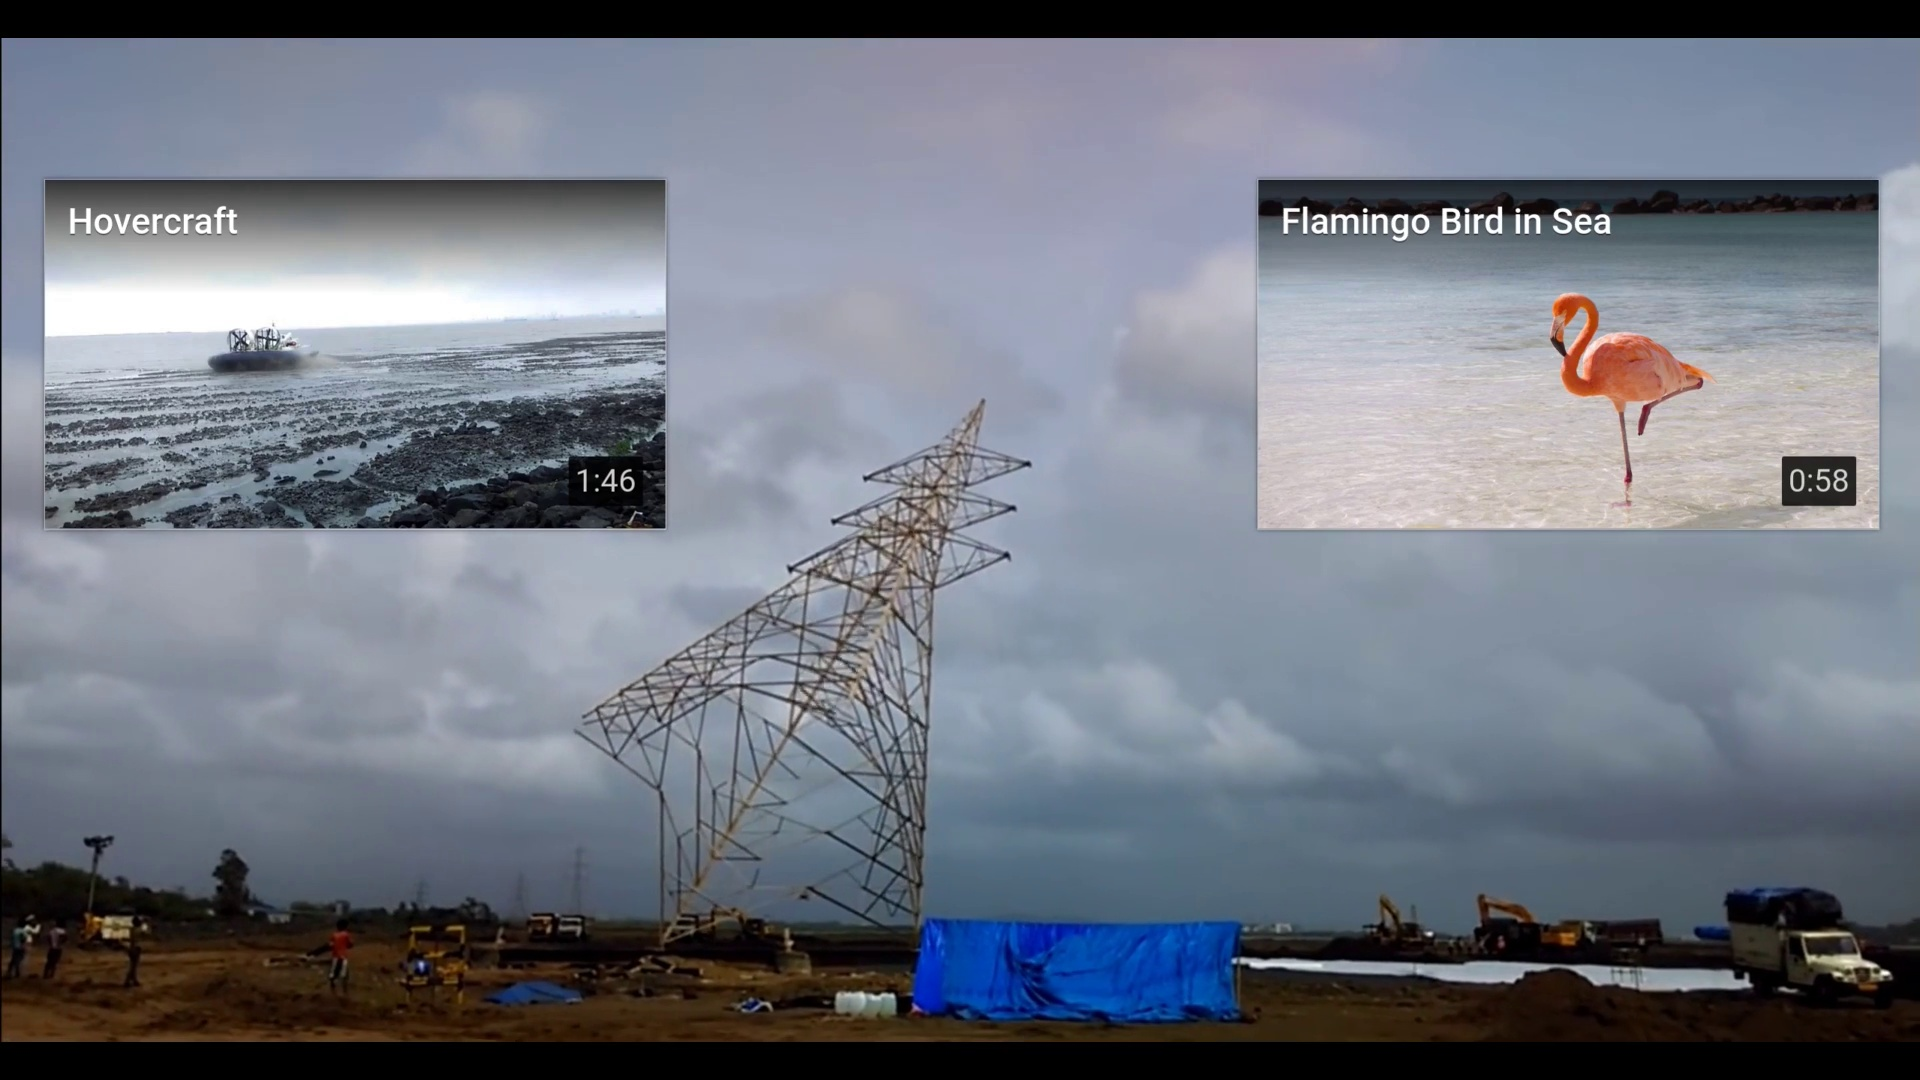tower_up: (687, 351, 1040, 949)
